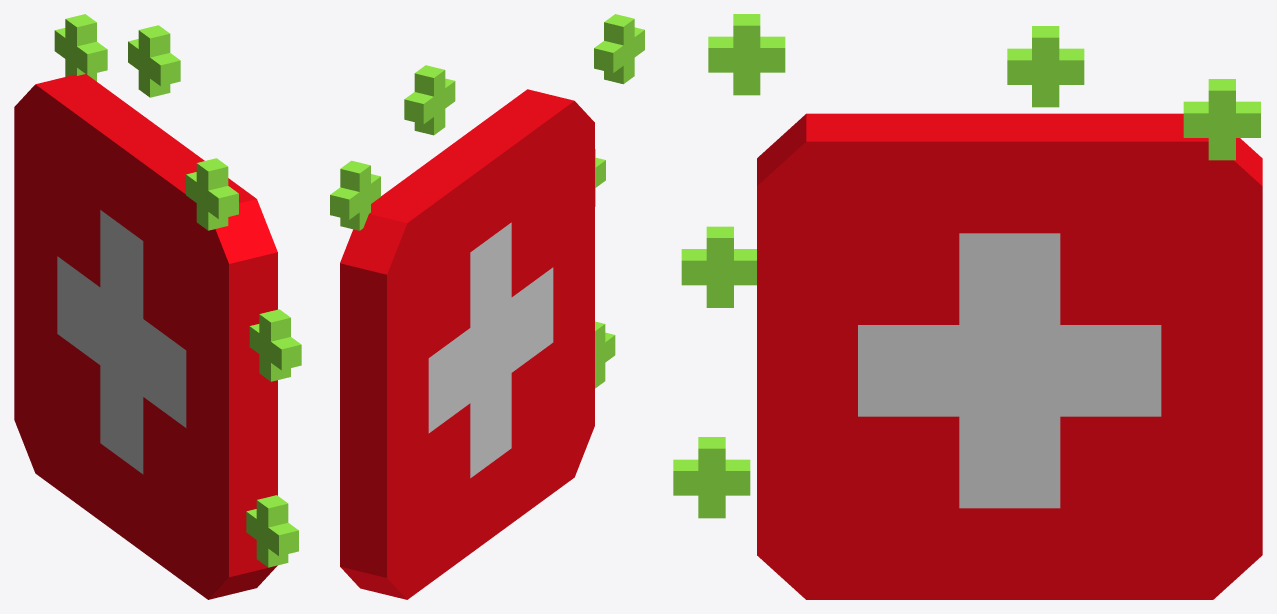
The model's file is healthpickupmodel.fbx.
3 views of the same model, side by side, from view 1: azimuth 30°, elevation 25°; view 2: azimuth 150°, elevation 25°; view 3: azimuth 270°, elevation 25° (orthographic). The views are drawn at different scales.
Parts seen in each view (by area): view 1: MedKit, Cube.010, Cube.007, Cube.006, Cube.009, Cube.008; view 2: MedKit, Cube.010, Cube.006, Cube.008, Cube.007; view 3: MedKit, Cube.007, Cube.006, Cube.008, Cube.010, Cube.009.
Boxes of the visible parts, box(x1,y1,x2,y2) form: MedKit: box(14, 74, 277, 599); Cube.010: box(128, 25, 180, 97); Cube.007: box(246, 495, 298, 567); Cube.006: box(186, 158, 238, 230); Cube.009: box(249, 309, 301, 381); Cube.008: box(54, 14, 107, 81); MedKit: box(340, 89, 594, 599); Cube.010: box(404, 65, 455, 135); Cube.006: box(594, 14, 644, 84); Cube.008: box(330, 160, 380, 230); Cube.007: box(595, 321, 615, 388); MedKit: box(757, 113, 1262, 599); Cube.007: box(673, 437, 750, 518); Cube.006: box(708, 14, 785, 95); Cube.008: box(1183, 79, 1260, 160); Cube.010: box(1007, 26, 1084, 107); Cube.009: box(681, 226, 756, 307).
Bounding box in the file's own units: 233 × 48.76 × 248.
